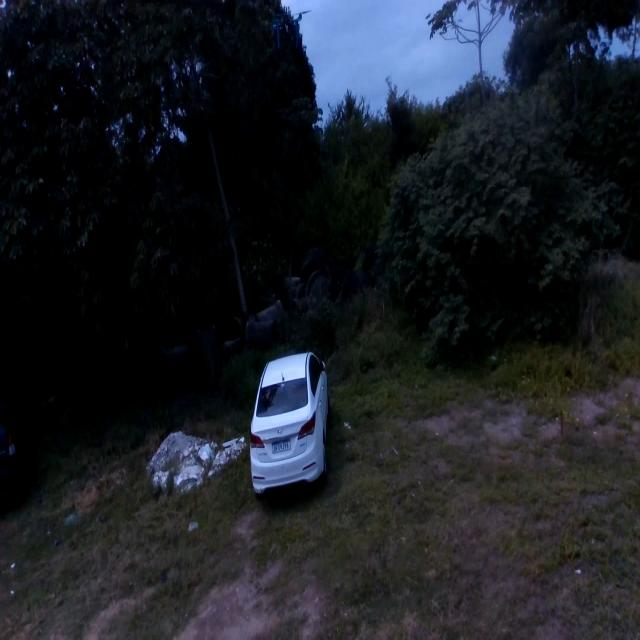-uav-: (257, 0, 315, 59)
